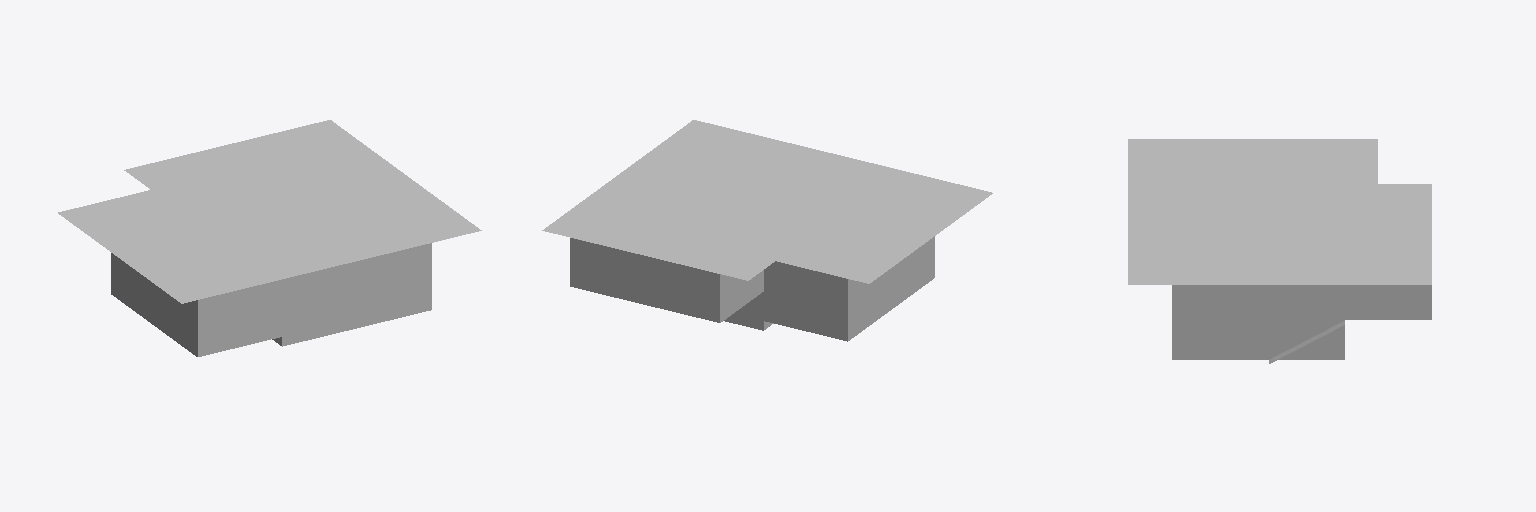
3 views of the same model, side by side, from view 1: azimuth 30°, elevation 25°; view 2: azimuth 150°, elevation 25°; view 3: azimuth 270°, elevation 25° (orthographic).
Visible parts, largest first — view 1: Plane.003; view 2: Plane.003; view 3: Plane.003.
Boxes of the visible parts, x1=… form: Plane.003: x1=58, y1=120, x2=481, y2=356; Plane.003: x1=542, y1=120, x2=992, y2=341; Plane.003: x1=1128, y1=139, x2=1431, y2=363.
Bounding box in the file's own units: 32 × 9 × 28.